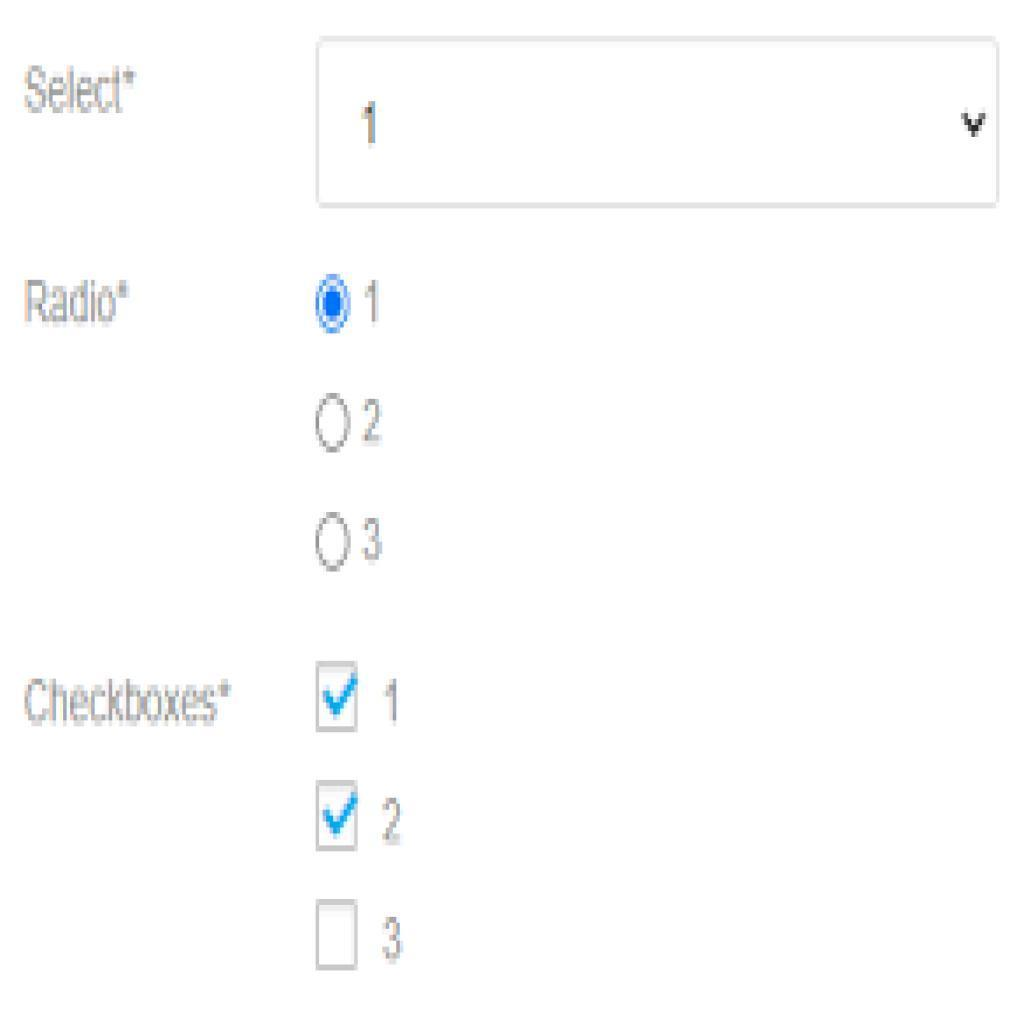checkbox: (314, 901, 361, 969), (316, 665, 361, 731), (318, 785, 359, 852)
dropdown: (317, 42, 1000, 206)
radio: (313, 510, 356, 581), (316, 271, 356, 339), (316, 389, 355, 455)
